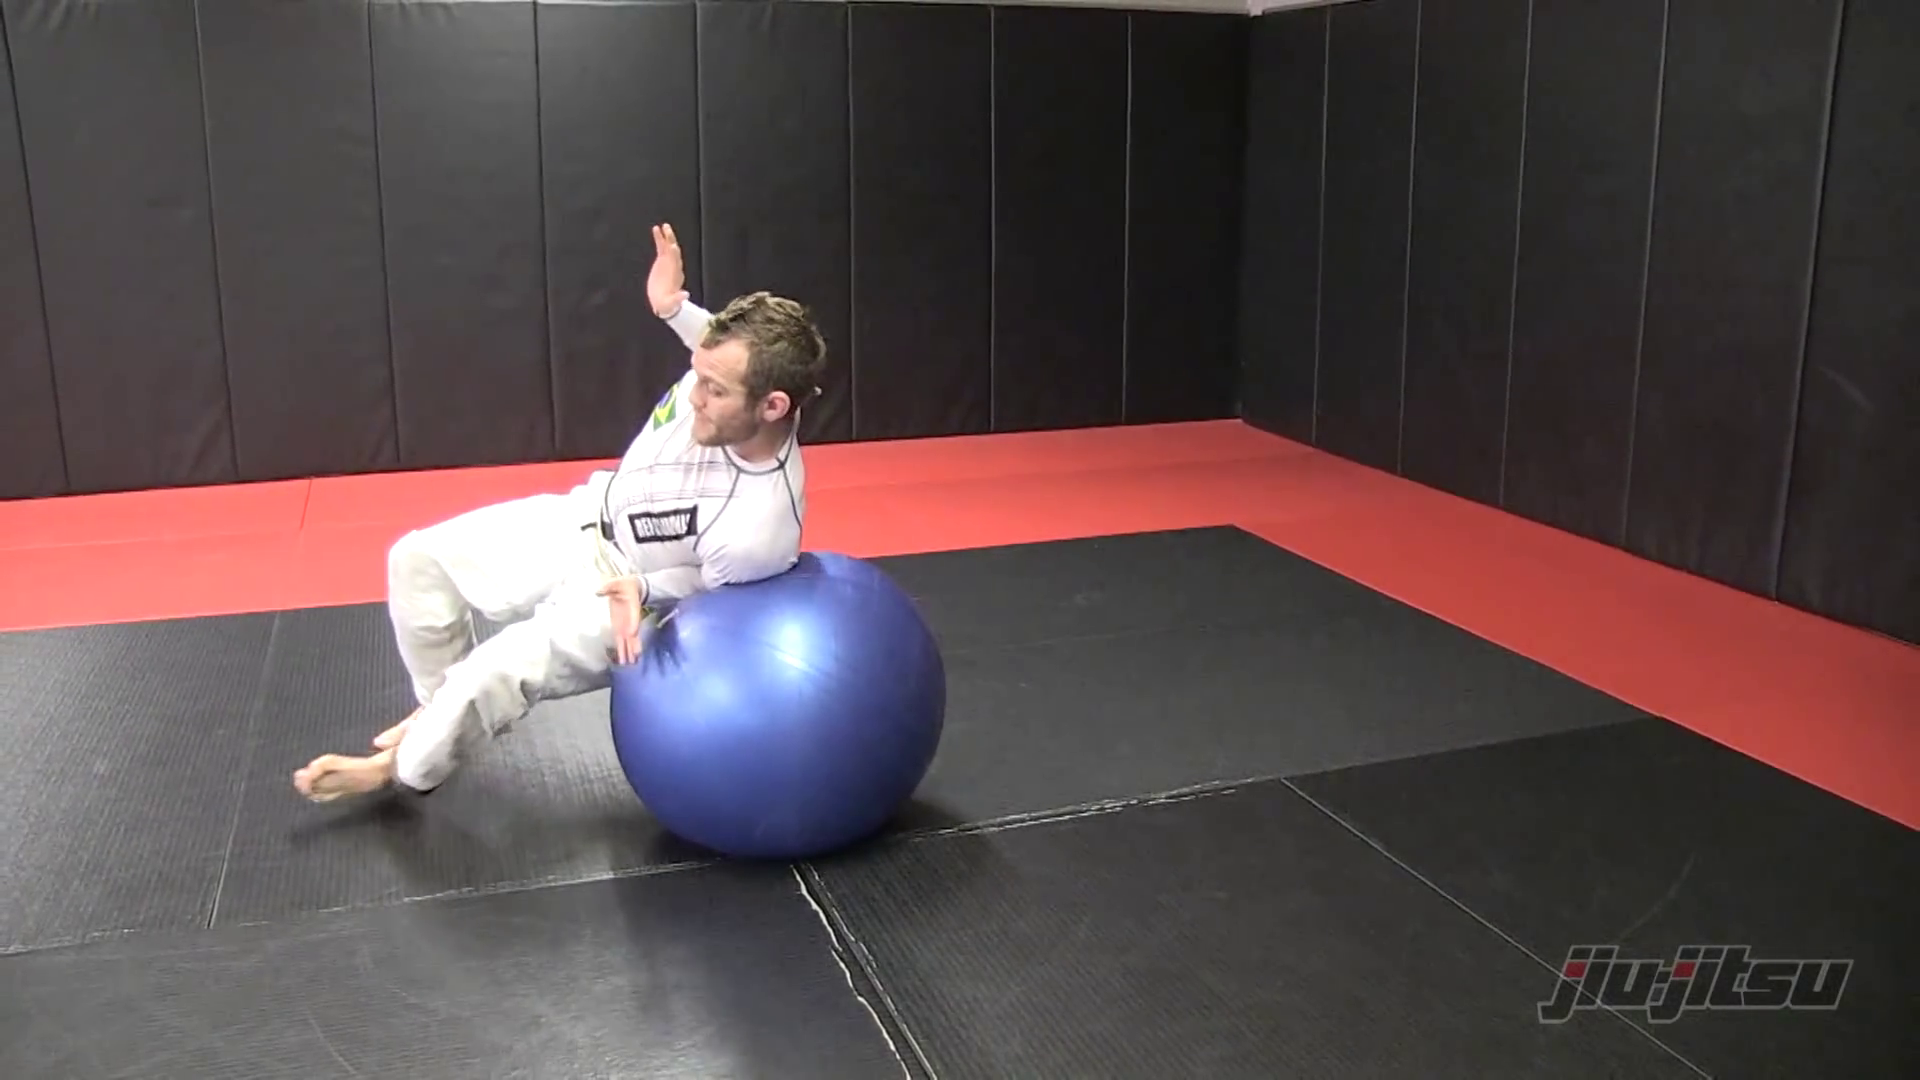yogaball: (597, 541, 978, 873)
